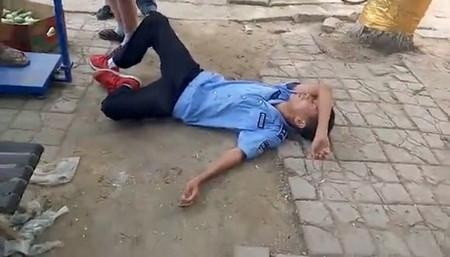falling: (90, 0, 343, 208)
